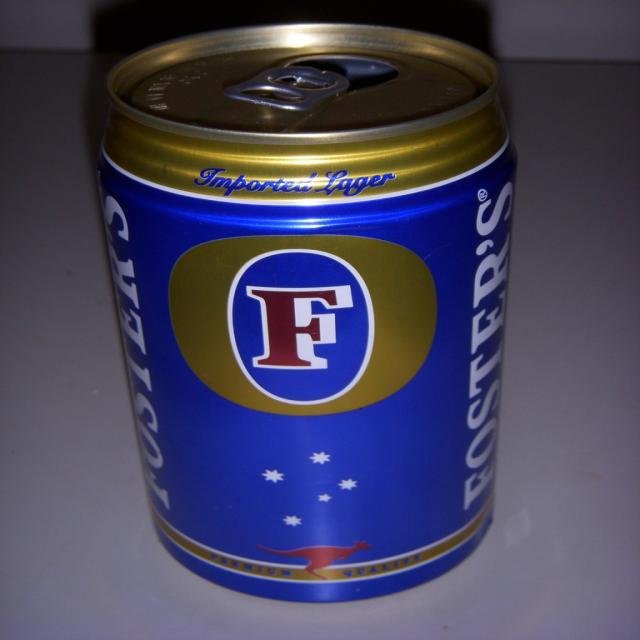fosters: (164, 232, 443, 419)
